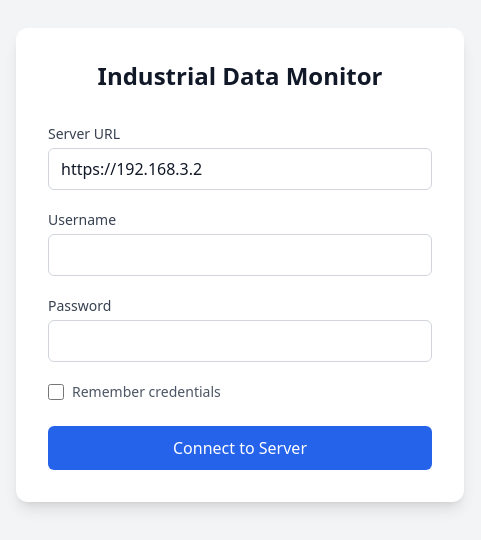
Scenario: LoginForm › shows an error when username is empty
The width and height of the screenshot is (481, 540).
Type "https://test.com" into the field with id "serverUrl".
click(240, 169); type("https://test.com")  # box [48,148,432,190]
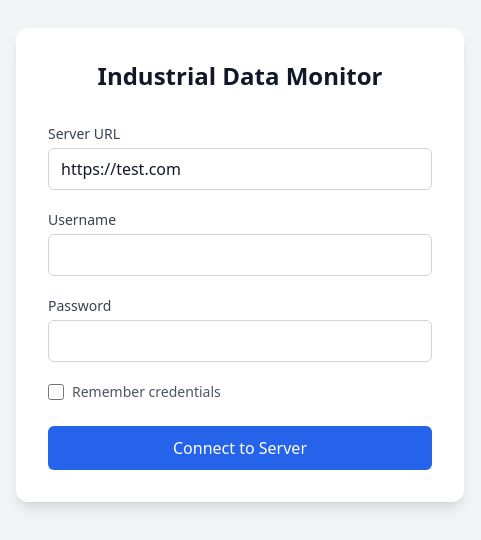
Type "pass" into the password field labelled "Password".
click(240, 341); type("pass")  # box [48,320,432,362]
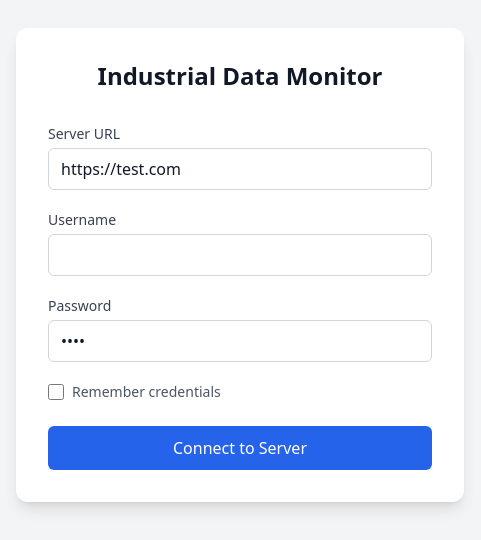
Submit the form, box [48,124,432,470]
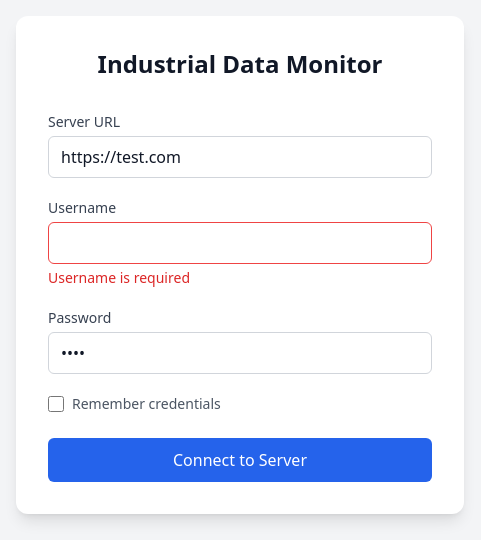
Check: the text "Username is required" is shown, box [48,268,190,287]
